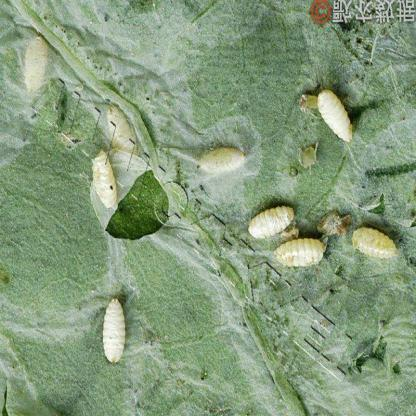whorl-maggot: (313, 86, 360, 148), (347, 220, 406, 262), (240, 202, 301, 241), (101, 292, 131, 367), (193, 142, 256, 177), (269, 236, 332, 270), (21, 28, 48, 97), (90, 151, 118, 211)
